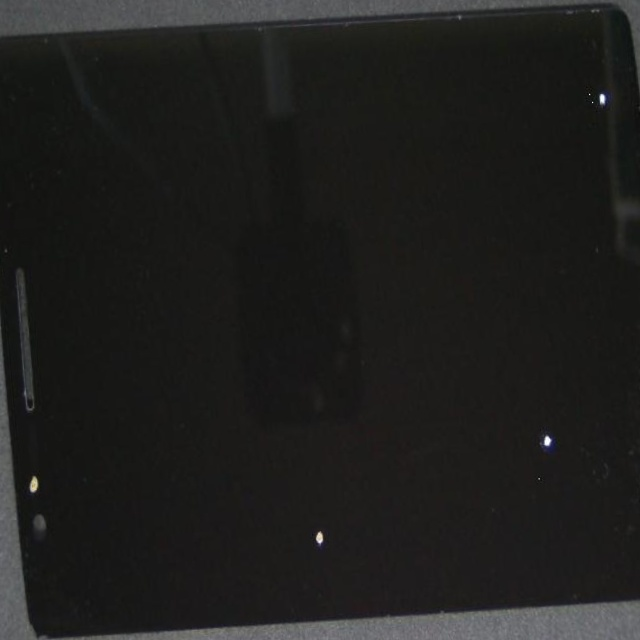stain: (222, 135, 640, 640), (113, 207, 475, 640), (257, 0, 640, 218), (0, 156, 72, 640)
